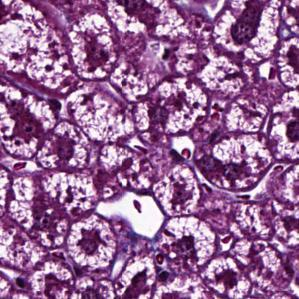inflammation: (194, 128, 273, 197), (62, 9, 123, 83), (65, 214, 120, 270)
